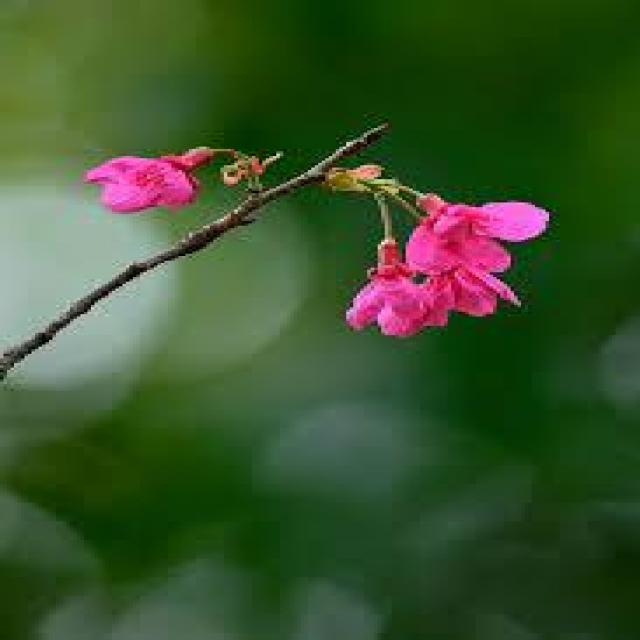organic waste: (411, 184, 561, 279), (338, 259, 526, 327), (77, 152, 210, 222)
